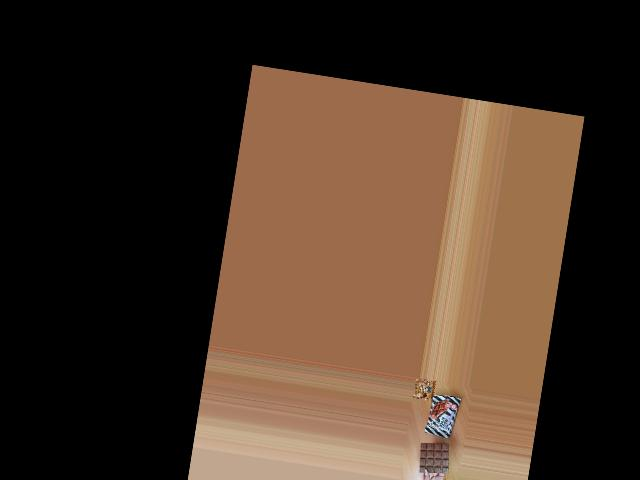chocolate: (425, 391, 461, 441)
